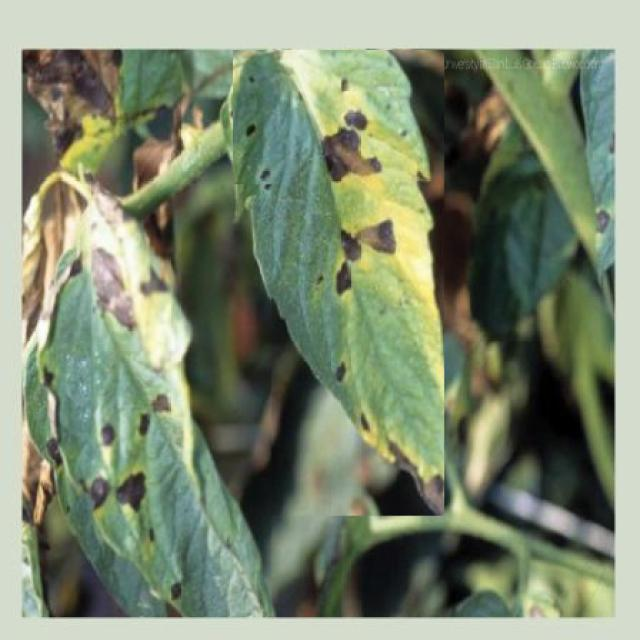Early Blight: (38, 185, 272, 616), (233, 50, 444, 516)
